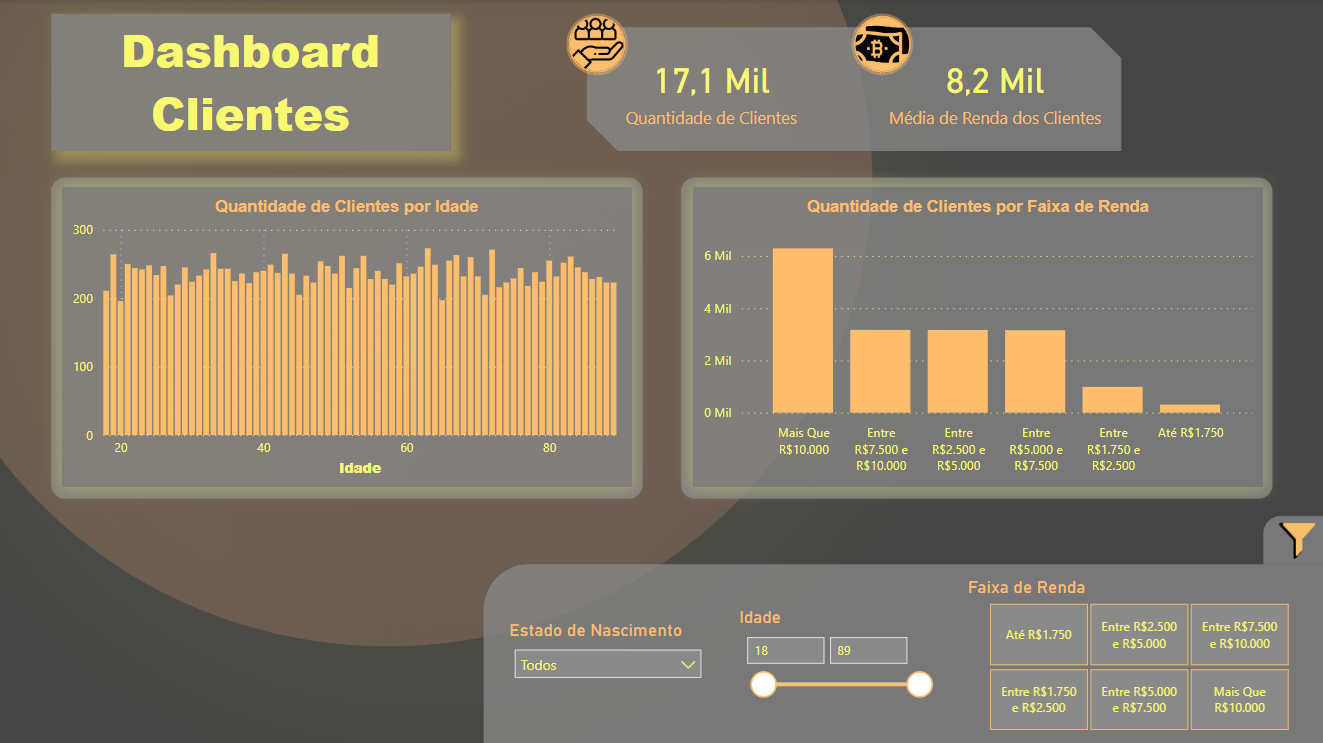

The page's visual inventory and layout, read from the dashboard file:
{"tool":"powerbi","page":{"name":"Clientes","canvas":[1280,720],"ordinal":1},"visuals":[{"type":"card","fields":{"Values":["Count(BD - Clientes.cliente_Log)"]},"box":[588.8,37.5,197.5,100],"z":0},{"type":"card","fields":{"Values":["Avg(BD - Clientes.renda)"]},"box":[845,37.5,231.2,100],"z":1000},{"type":"clusteredColumnChart","title":"Quantidade de Clientes por Idade","fields":{"Category":["BD - Clientes.idade"],"Y":["CountNonNull(BD - Clientes.idade)"]},"box":[60,181.2,550,290],"z":2000},{"type":"clusteredColumnChart","title":"Quantidade de Clientes por Faixa de Renda","fields":{"Category":["BD - Clientes.Faixa de Renda"],"Y":["CountNonNull(BD - Clientes.renda)"]},"box":[668.8,181.2,550,290],"z":3000},{"type":"slicer","title":"Idade","fields":{"Values":["BD - Clientes.idade"]},"box":[709.1,581.3,200.2,100.1],"z":4000},{"type":"slicer","title":"Faixa de Renda","fields":{"Values":["BD - Clientes.Faixa de Renda"]},"box":[930,552.5,333.8,160],"z":5000},{"type":"slicer","title":"Estado de Nascimento","fields":{"Values":["BD - Clientes.uf_nascimento"]},"box":[487.2,593.4,200.2,74.8],"z":6000},{"type":"textbox","box":[50,13.8,386.2,133.8],"z":7000}]}

Visuals, with their boxes in screenshot pixels (x1, y1, x2, y2), scaled from the page's 1280x720 canvas onto the 1323x743 screenshot:
card - Count(BD - Clientes.cliente_Log): l=609, t=39, r=813, b=142
card - Avg(BD - Clientes.renda): l=873, t=39, r=1112, b=142
"Quantidade de Clientes por Idade" clusteredColumnChart: l=62, t=187, r=630, b=486
"Quantidade de Clientes por Faixa de Renda" clusteredColumnChart: l=691, t=187, r=1260, b=486
"Idade" slicer: l=733, t=600, r=940, b=703
"Faixa de Renda" slicer: l=961, t=570, r=1306, b=735
"Estado de Nascimento" slicer: l=504, t=612, r=710, b=690
textbox: l=52, t=14, r=451, b=152
